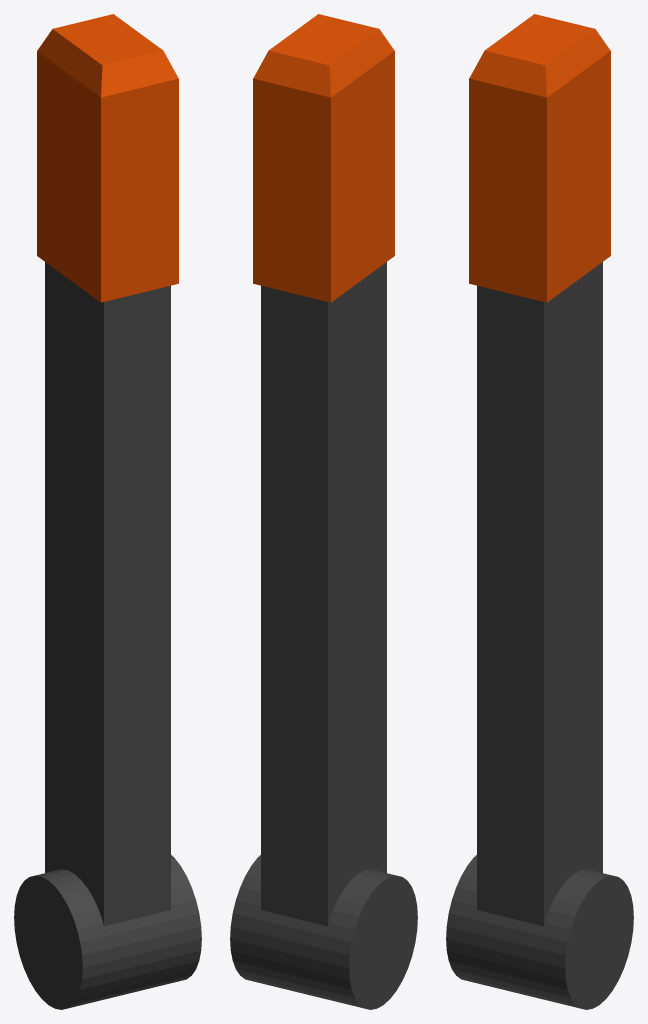
The model's file is OrangeLeverWOB.glb.
The picture shows the model from 3 angles, left to right: view 1: azimuth 30°, elevation 25°; view 2: azimuth 150°, elevation 25°; view 3: azimuth 330°, elevation 25°; orthographic projection.
Parts seen in each view (by area): view 1: Handle, Top; view 2: Handle, Top; view 3: Handle, Top.
Boxes of the visible parts, box(x1,y1,x2,y2) form: Handle: box(14, 262, 201, 1009); Top: box(37, 14, 178, 302); Handle: box(230, 262, 417, 1009); Top: box(253, 14, 394, 302); Handle: box(446, 262, 633, 1009); Top: box(469, 14, 610, 302).
Size of the model in its own units: 0.1393 by 1.06 by 0.1393.
